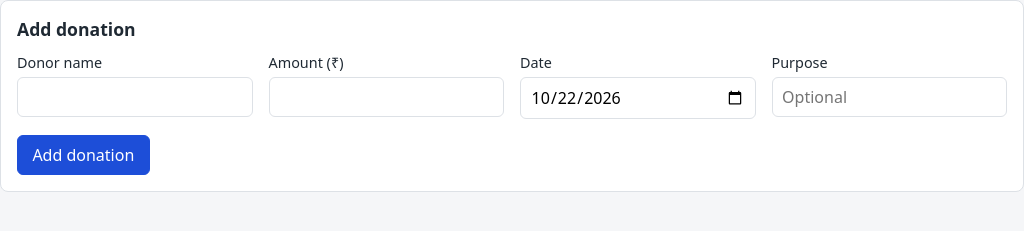
DonationForm › shows validation messages and does not submit invalid input
What coordinates should you click on to do the following:
click the button "Add donation"
I would click on:
 (83, 155)
Its box is [17,135,150,175].
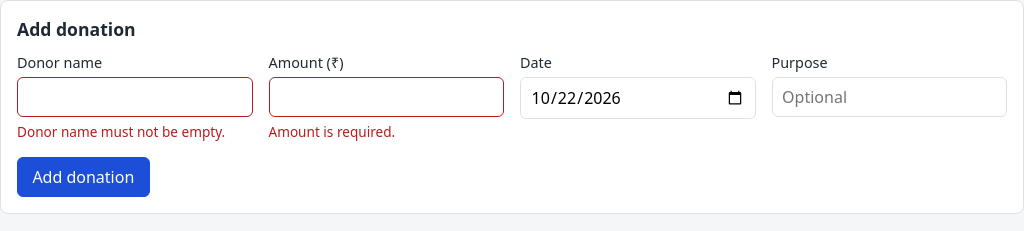
Expected: the text "Donor name must not be empty." is shown, [17,122,252,141]
Expected: the text "Amount is required." is shown, [268,122,395,141]
